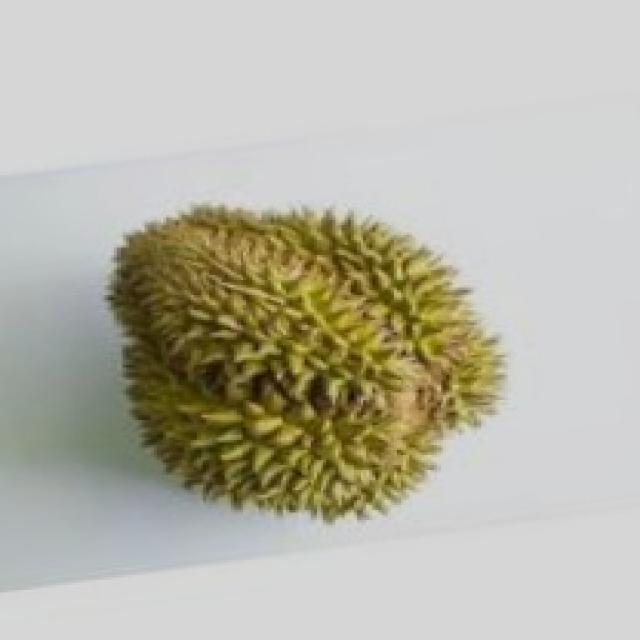fruit: (77, 182, 477, 578)
